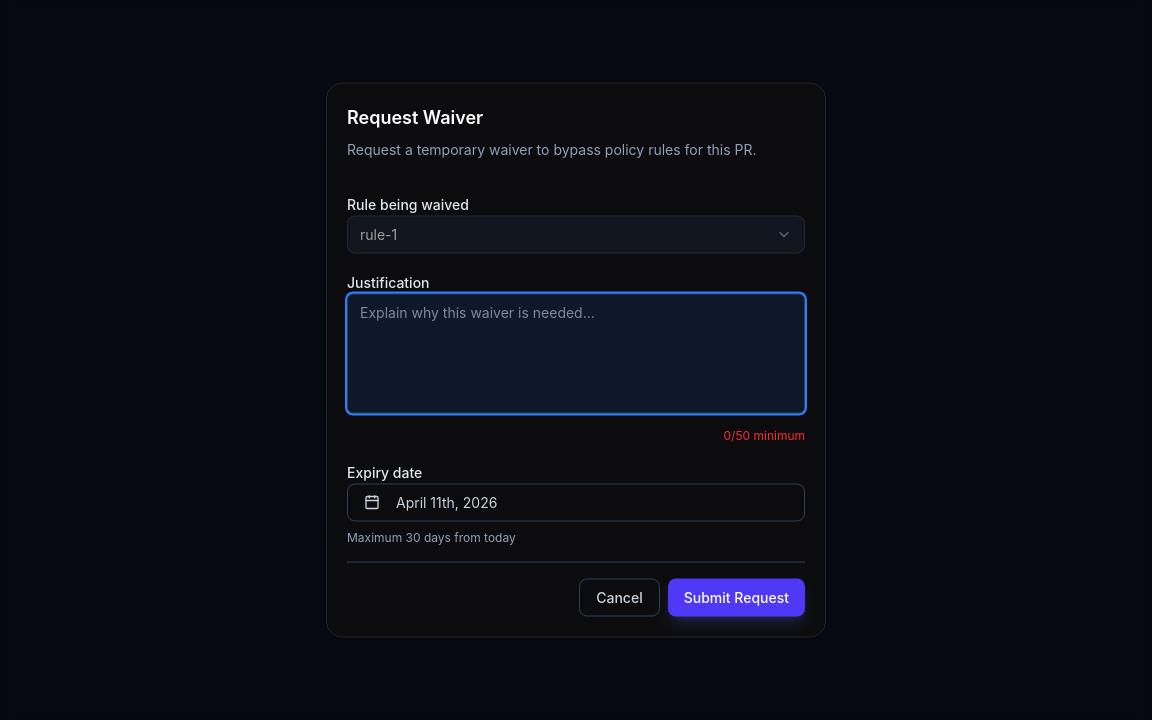
Test: WaiverModal › Form submission › displays API error message on submission failure
In the text box with placeholder "Explain why this waiver is needed...": (576, 354) [347,294,805,414], type "This is a valid justification that is longer than fifty characters to pass validation."
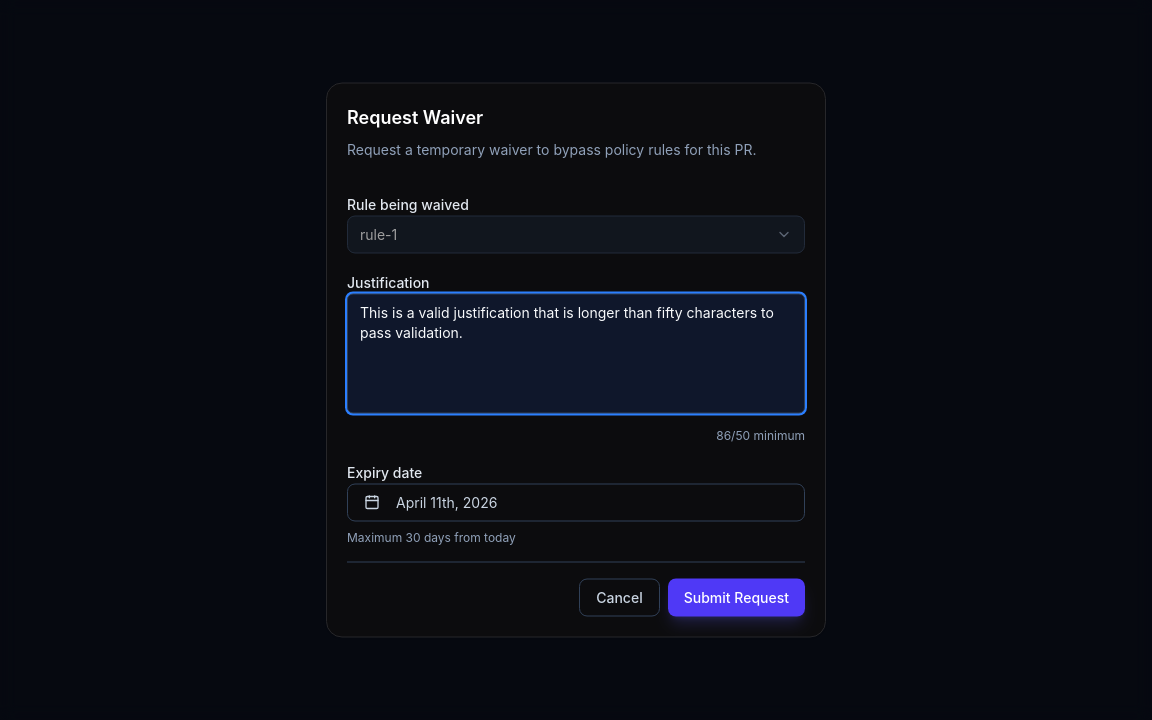
Click the button "Submit Request": (736, 598) [668,578,805,616]
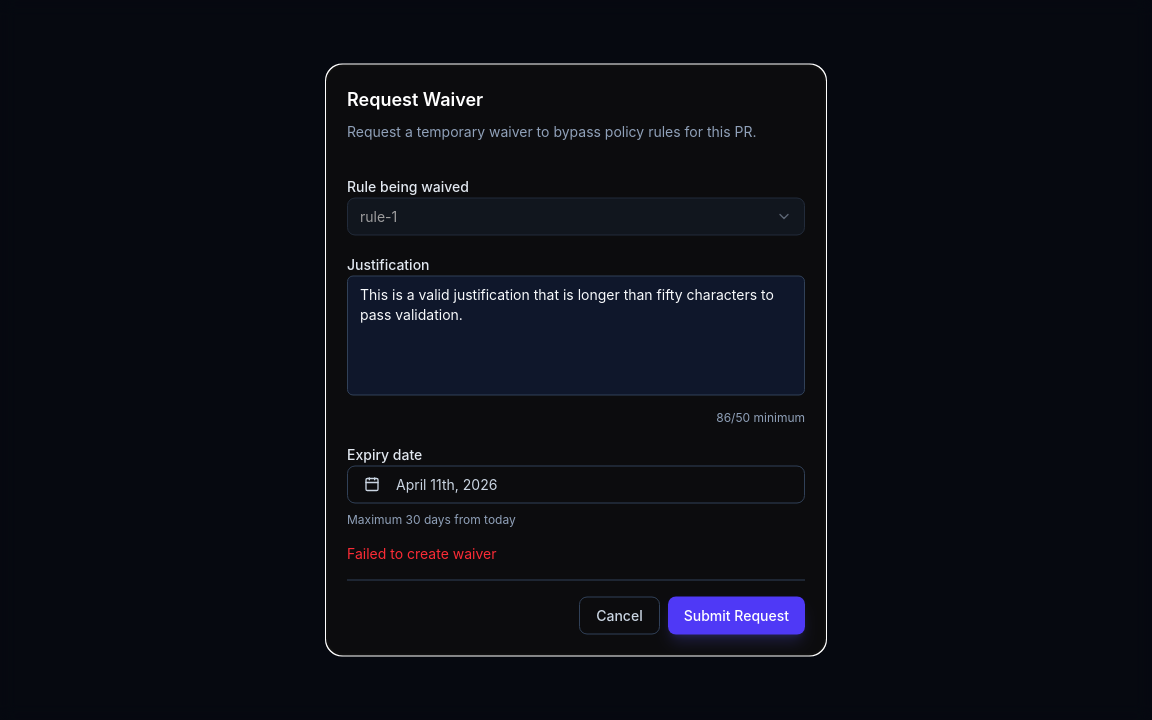
Result: the text "Failed to create waiver" is shown at [347,544,496,562]
